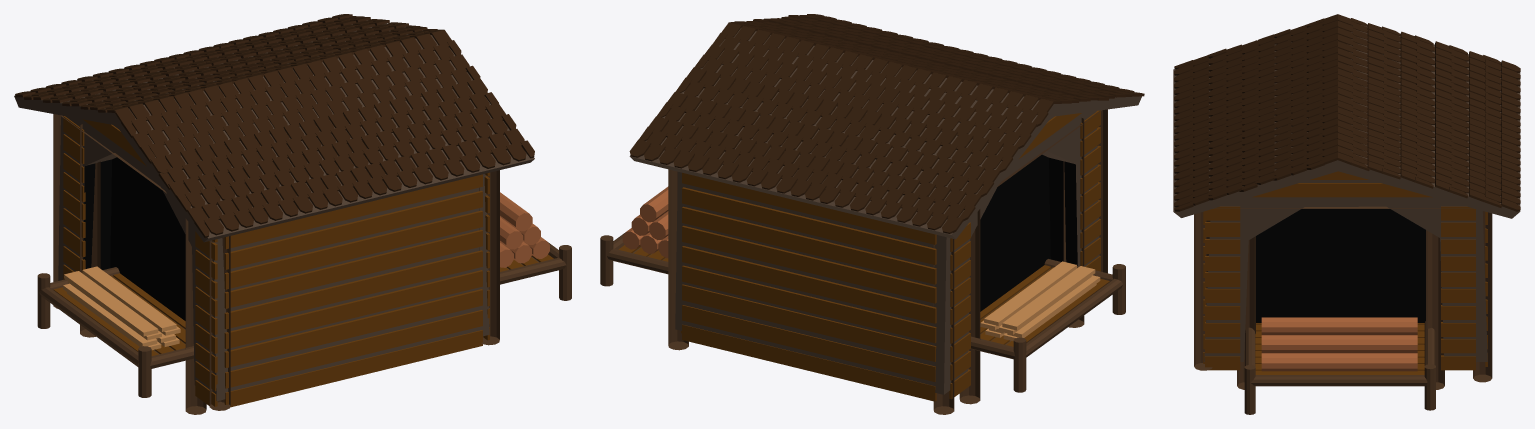
File: LogShedFinal.fbx
The picture shows the model from 3 angles, left to right: view 1: azimuth 30°, elevation 25°; view 2: azimuth 150°, elevation 25°; view 3: azimuth 270°, elevation 25°; orthographic projection. The views are drawn at different scales.
Parts seen in each view (by area): view 1: Cylinder.005; view 2: Cylinder.005; view 3: Cylinder.005.
Part boxes in pixels (x1,y1,x2,y2): Cylinder.005: [14, 14, 571, 414]; Cylinder.005: [600, 14, 1144, 414]; Cylinder.005: [1173, 14, 1520, 414].
Size of the model in its own units: 39.94 by 23.9 by 31.17.
